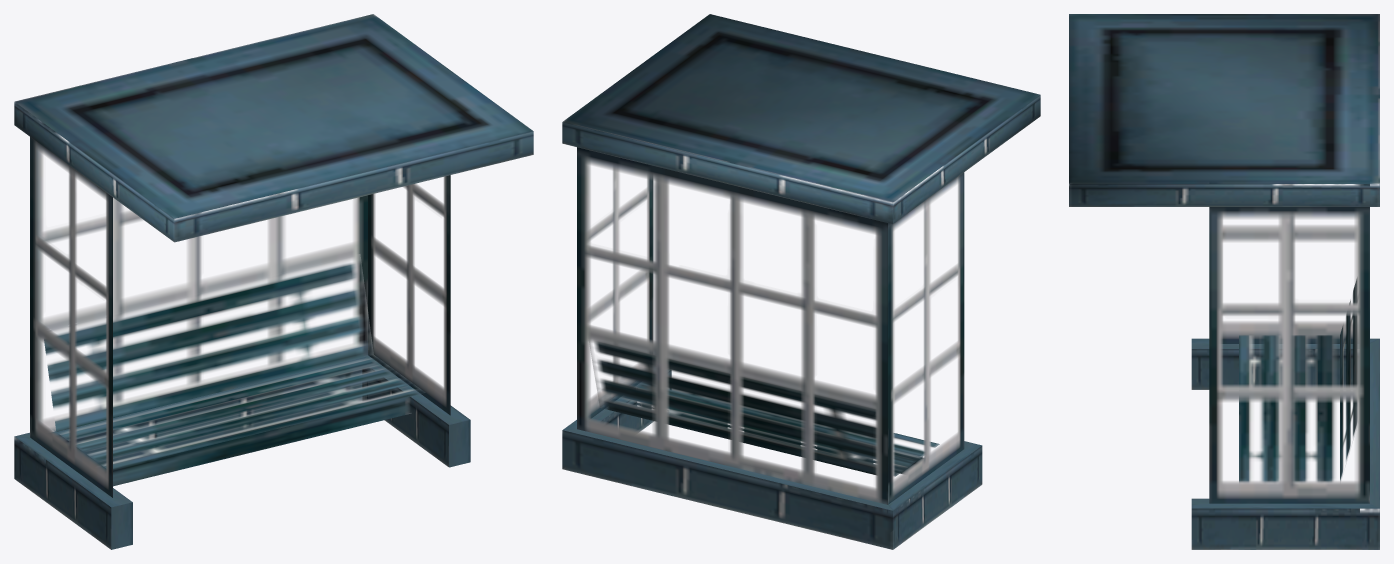
Rendered from USA - Prop - Bus Stop 02 - PABusStop.glb.
The picture shows the model from 3 angles, left to right: view 1: azimuth 30°, elevation 25°; view 2: azimuth 150°, elevation 25°; view 3: azimuth 270°, elevation 25°; orthographic projection. The views are drawn at different scales.
Parts seen in each view (by area): view 1: PABUSSTOP; view 2: PABUSSTOP; view 3: PABUSSTOP.
Boxes of the visible parts, x1,y1,x2,y2 form: PABUSSTOP: (14, 14, 533, 549); PABUSSTOP: (562, 14, 1040, 549); PABUSSTOP: (1069, 14, 1379, 549).
Bounding box in the file's own units: 14.31 × 14.37 × 11.06.
1 material, 1 textured.
